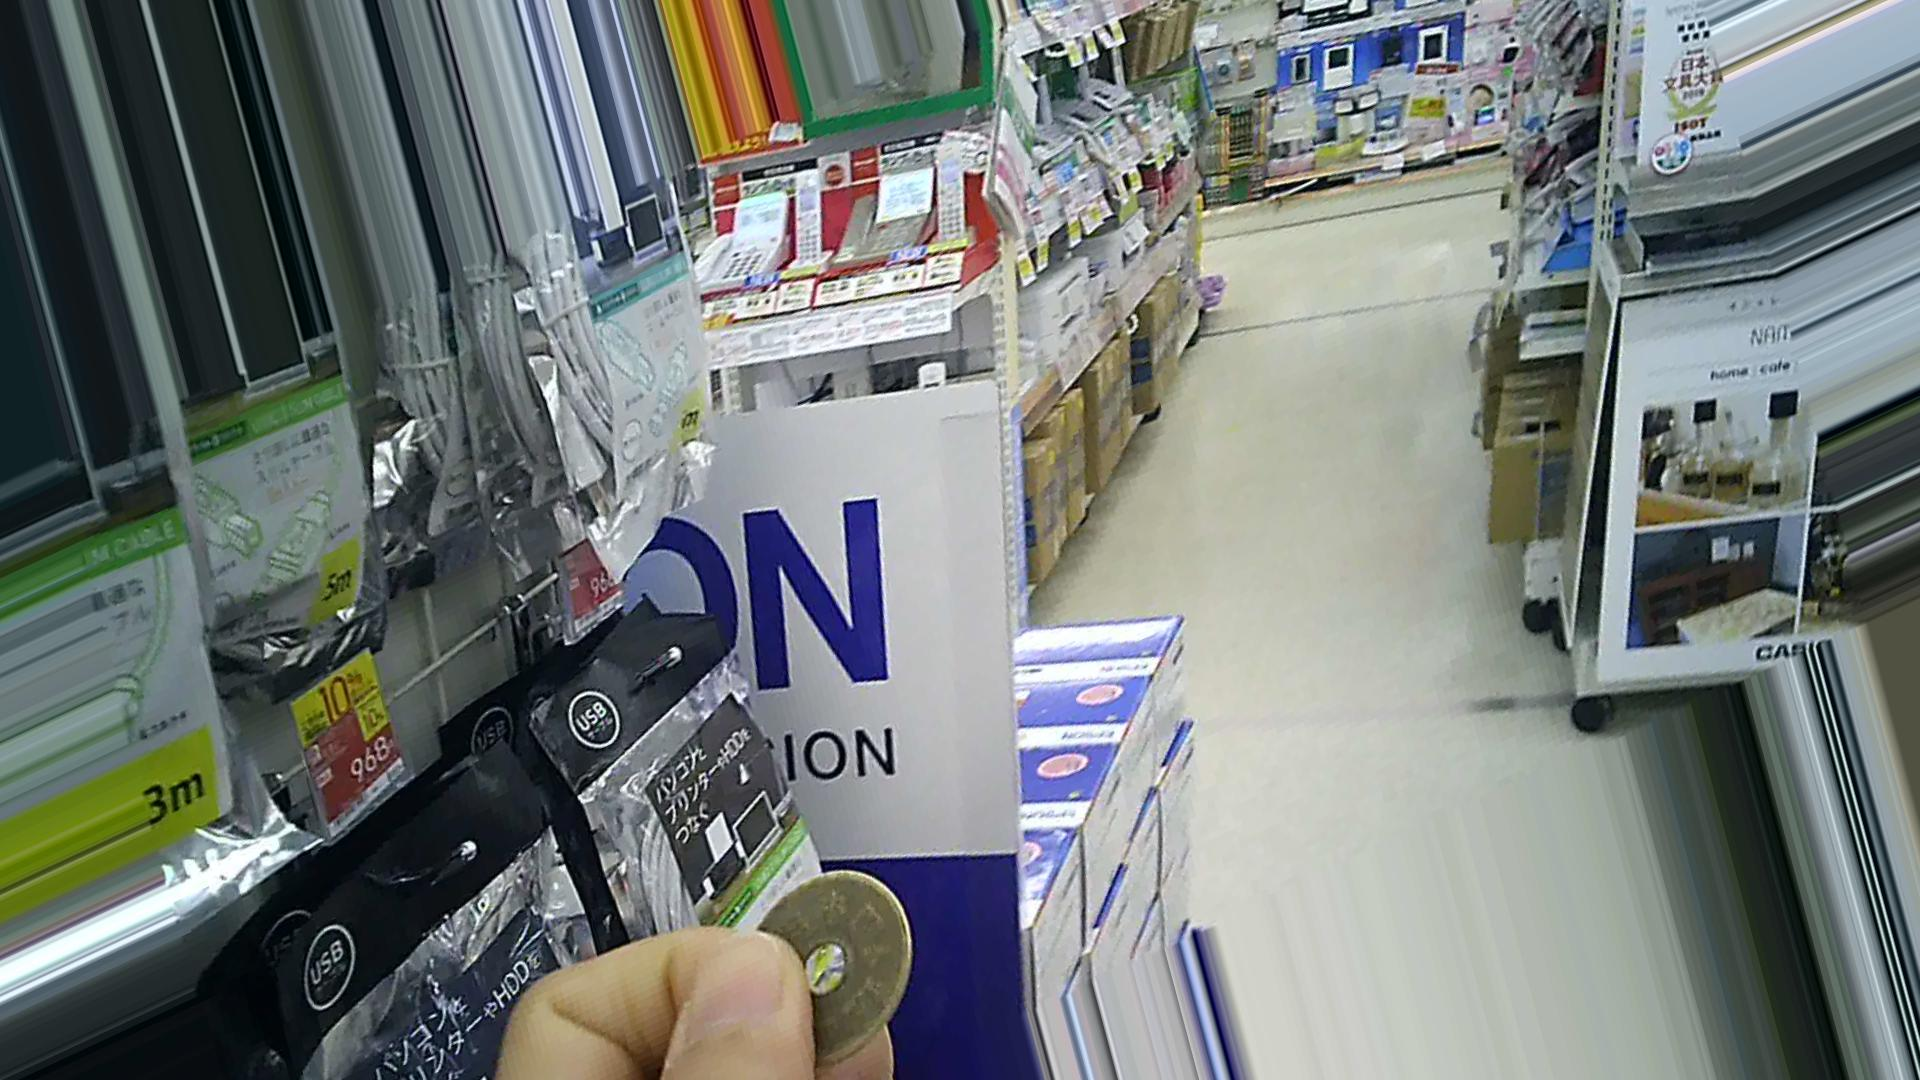5 Yen: (724, 866, 913, 1062)
